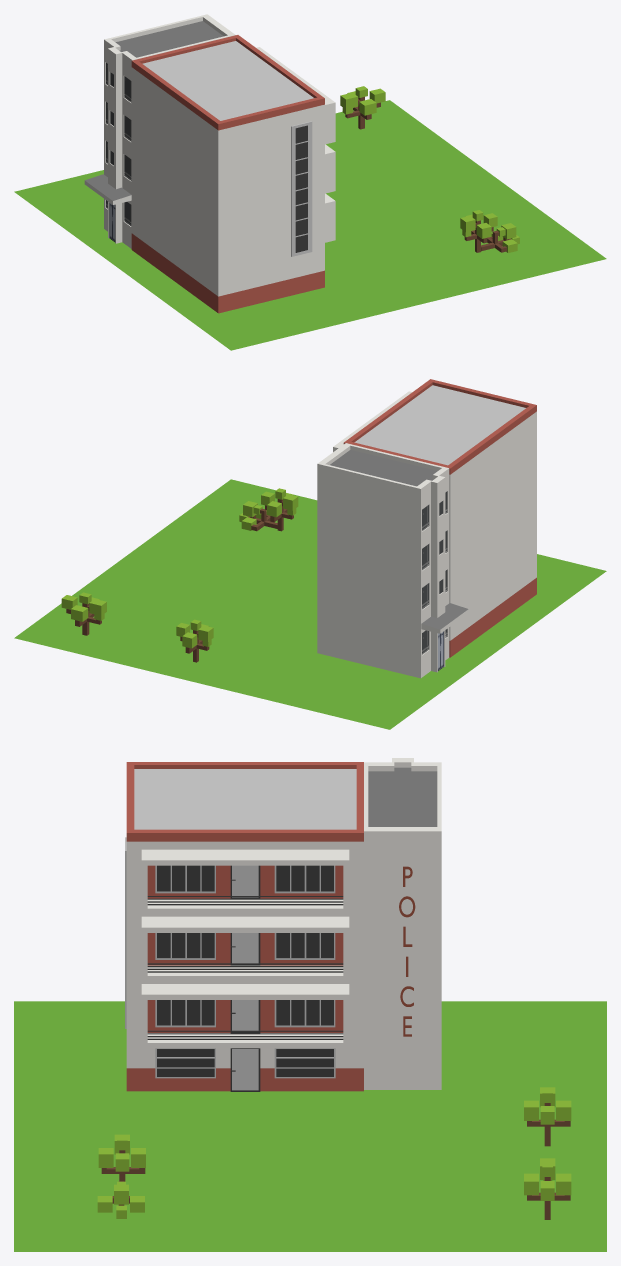
File: police_gen_command.glb
The picture shows the model from 3 angles, top to bottom: view 1: azimuth 30°, elevation 25°; view 2: azimuth 150°, elevation 25°; view 3: azimuth 270°, elevation 25°; orthographic projection. The views are drawn at different scales.
Parts seen in each view (by area): view 1: Building_Residential_color01_Cube.013, Road Concrete Tile_Plane.010, Building Sky_small_color01_Cube.028, Natures_Cube Tree_Cube.001, Natures_Cube Tree_Cube.017, Natures_Cube Tree_Cube.003; view 2: Road Concrete Tile_Plane.010, Building Sky_small_color01_Cube.028, Building_Residential_color01_Cube.013, Natures_Cube Tree_Cube.001, Natures_Cube Tree_Cube.017, Natures_Cube Tree_Cube.002, Natures_Cube Tree_Cube.003; view 3: Road Concrete Tile_Plane.010, Building_Residential_color01_Cube.013, Building Sky_small_color01_Cube.028, Natures_Cube Tree_Cube.001, Natures_Cube Tree_Cube.002, Natures_Cube Tree_Cube.017, Natures_Cube Tree_Cube.003, Text.
Boxes of the visible parts, x1,y1,x2,y2 form: Building_Residential_color01_Cube.013: (131, 35, 335, 313); Road Concrete Tile_Plane.010: (14, 100, 606, 350); Building Sky_small_color01_Cube.028: (84, 14, 235, 248); Natures_Cube Tree_Cube.001: (340, 86, 385, 129); Natures_Cube Tree_Cube.017: (460, 210, 497, 252); Natures_Cube Tree_Cube.003: (481, 223, 519, 252); Road Concrete Tile_Plane.010: (14, 479, 606, 729); Building Sky_small_color01_Cube.028: (317, 443, 468, 678); Building_Residential_color01_Cube.013: (333, 379, 536, 657); Natures_Cube Tree_Cube.001: (61, 592, 106, 635); Natures_Cube Tree_Cube.017: (261, 488, 298, 531); Natures_Cube Tree_Cube.002: (176, 619, 213, 662); Natures_Cube Tree_Cube.003: (239, 501, 277, 531); Road Concrete Tile_Plane.010: (14, 1001, 606, 1251); Building_Residential_color01_Cube.013: (125, 762, 363, 1091); Building Sky_small_color01_Cube.028: (364, 758, 441, 1089); Natures_Cube Tree_Cube.001: (524, 1158, 571, 1219); Natures_Cube Tree_Cube.002: (524, 1087, 571, 1146); Natures_Cube Tree_Cube.017: (98, 1134, 145, 1181); Natures_Cube Tree_Cube.003: (97, 1181, 144, 1218); Text: (399, 866, 415, 1036).
Bounding box in the file's own units: 40 × 20.79 × 40.
Materials: 6 (4 with a texture image).
